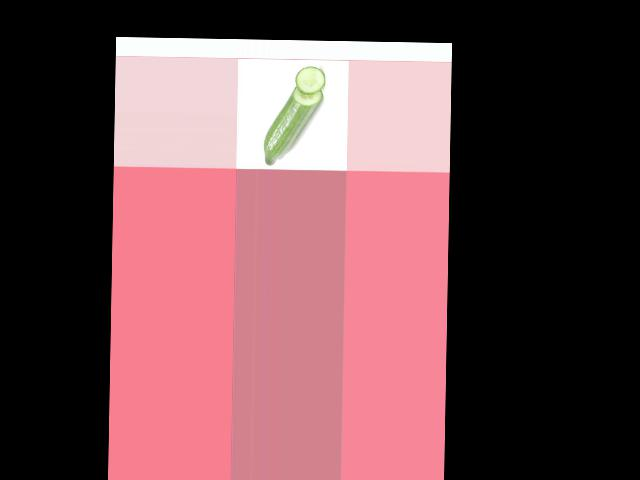cucumber: (263, 84, 323, 166)
